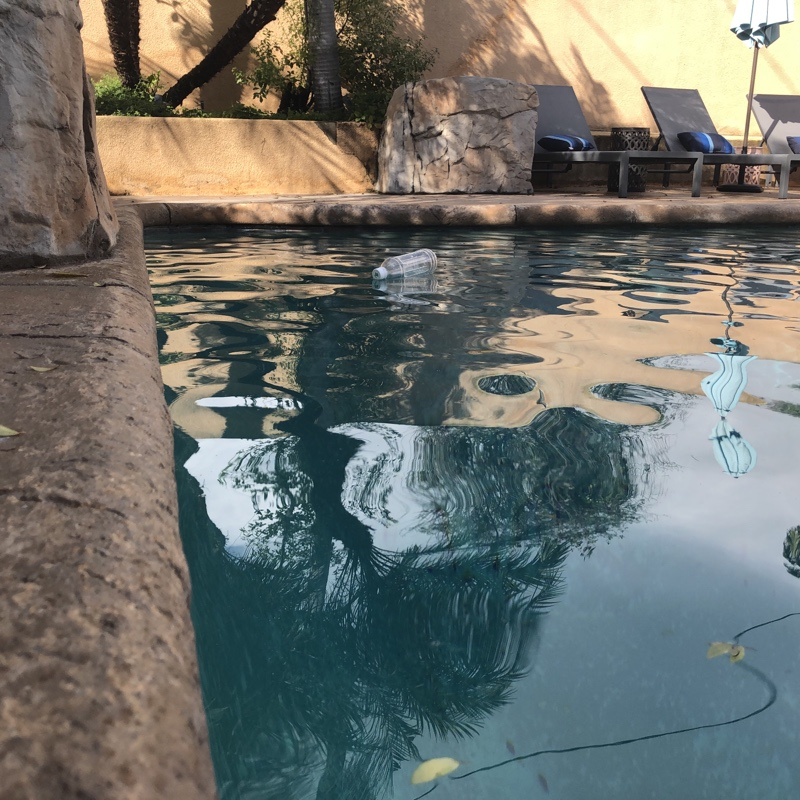Plastic Bottle: (368, 245, 440, 283)
